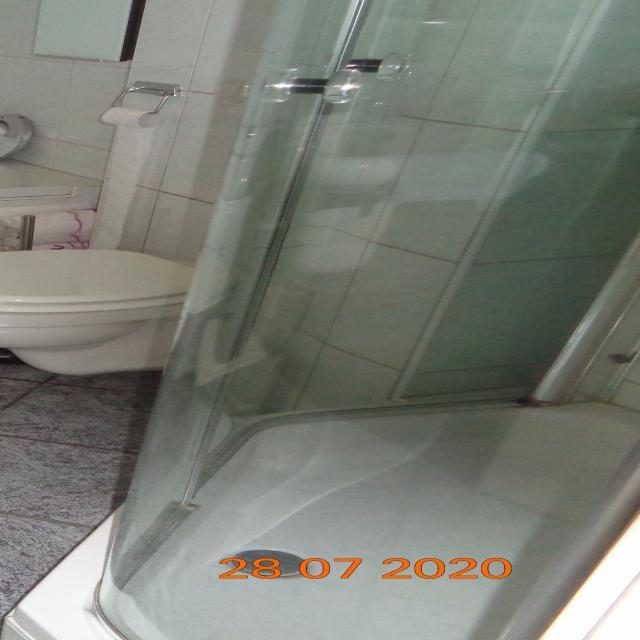douche: (9, 0, 640, 640)
toilet: (0, 246, 200, 382)
